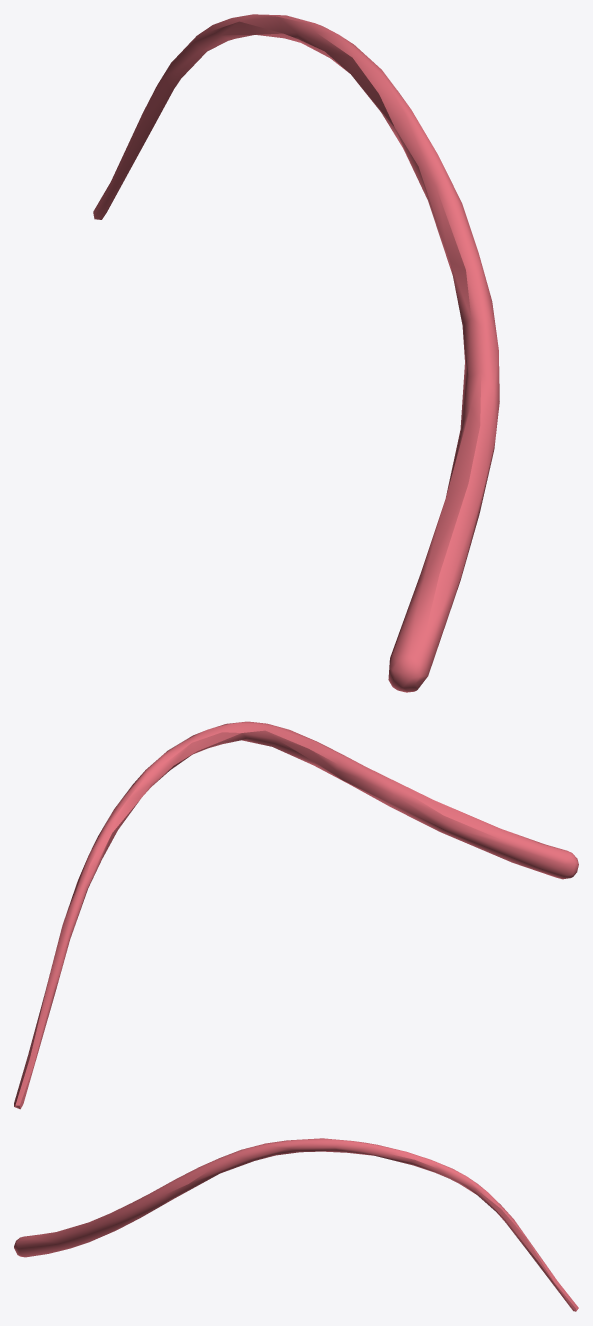
File: fma50696_fj1728.glb
3 renders of one model, top to bottom at view 1: azimuth 30°, elevation 25°; view 2: azimuth 150°, elevation 25°; view 3: azimuth 270°, elevation 25°, orthographic. The views are drawn at different scales.
Parts seen in each view (by area): view 1: FMA50696_FJ1728; view 2: FMA50696_FJ1728; view 3: FMA50696_FJ1728.
Part boxes in pixels (x1=…): FMA50696_FJ1728: x1=93, y1=14, x2=499, y2=692; FMA50696_FJ1728: x1=14, y1=721, x2=578, y2=1109; FMA50696_FJ1728: x1=14, y1=1138, x2=578, y2=1311.
Size of the model in its own units: 0.012 by 0.0145 by 0.0415.
